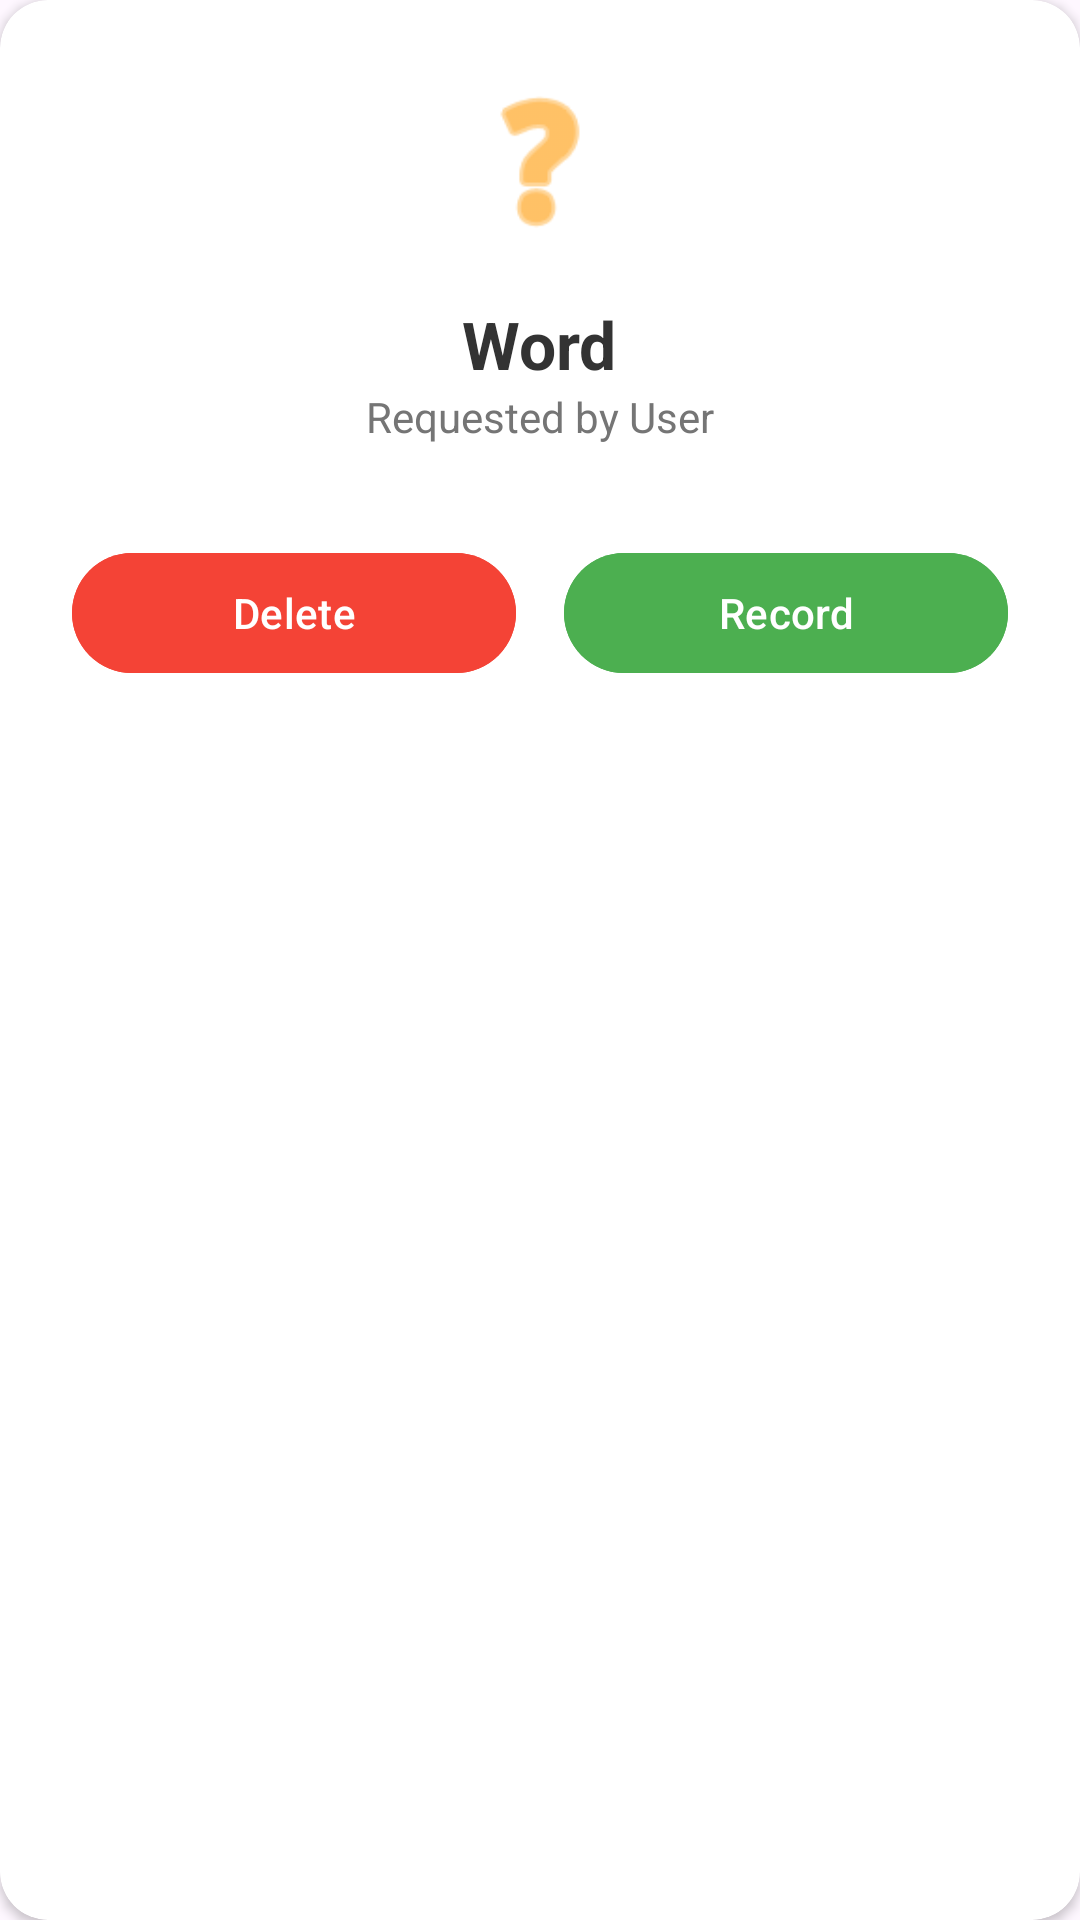

Icons on this 1080x1920 Android screen, each with the point to tap as (x,y):
help: (540,162)
